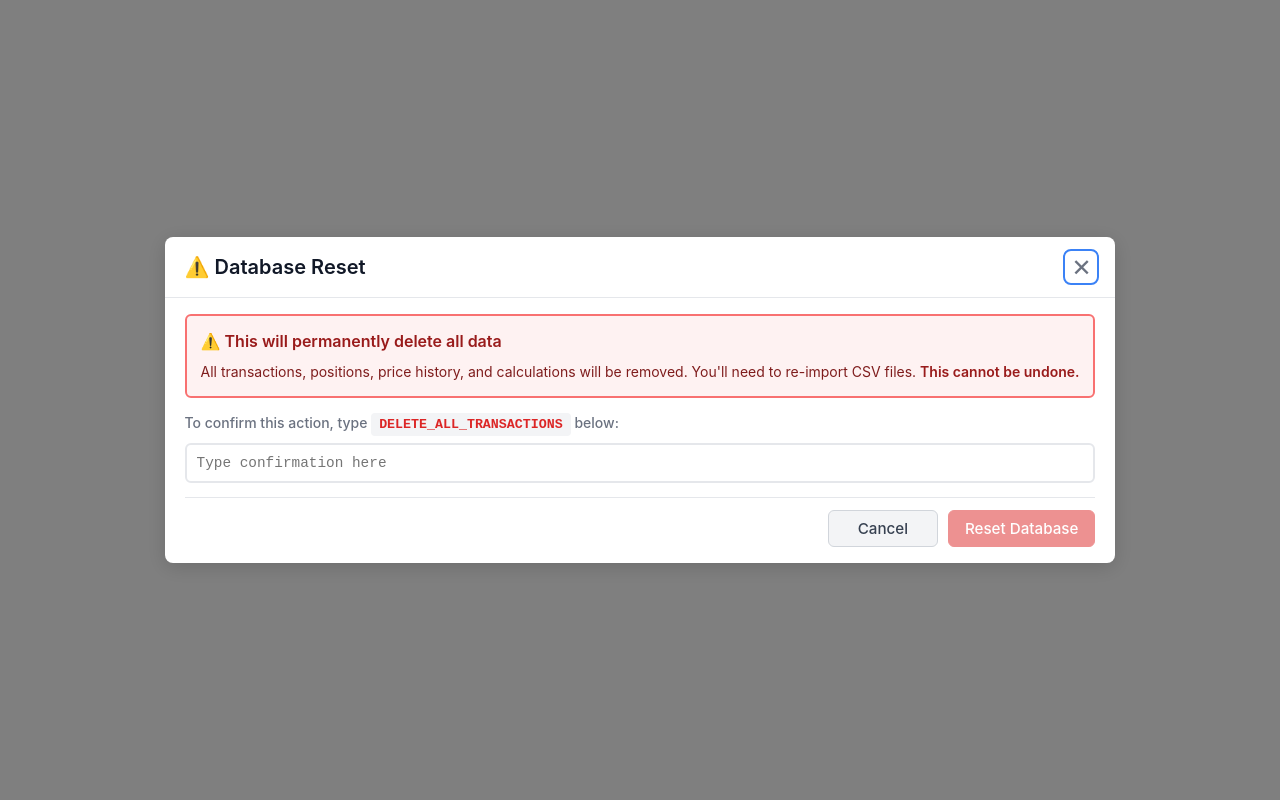
Test: DatabaseResetModal › Reset Process › handles API error gracefully
Note: Type correct confirmation
In the field with placeholder "Type confirmation here": [640, 463] box [184,443,1095,483], type "DELETE_ALL_TRANSACTIONS"
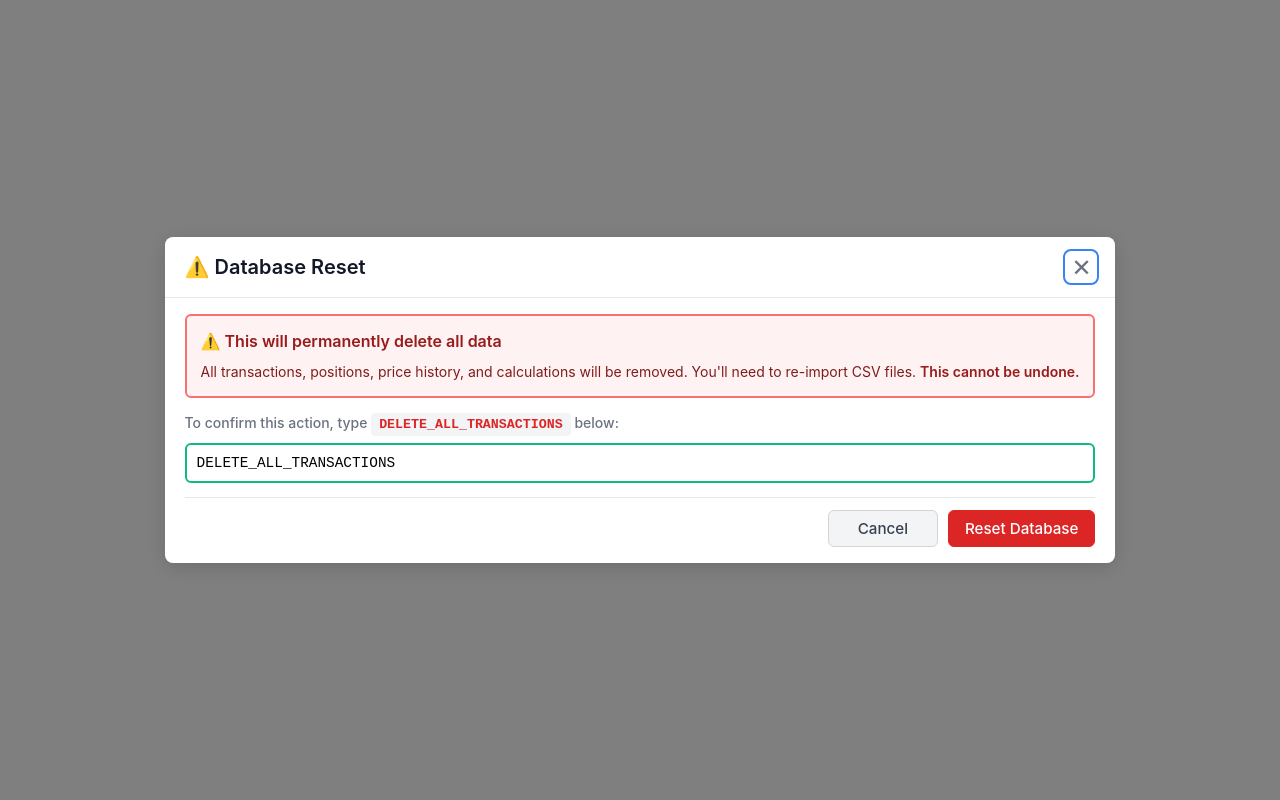
Note: Click reset
Click the button "Reset Database": [1022, 528] box [948,510,1096,547]
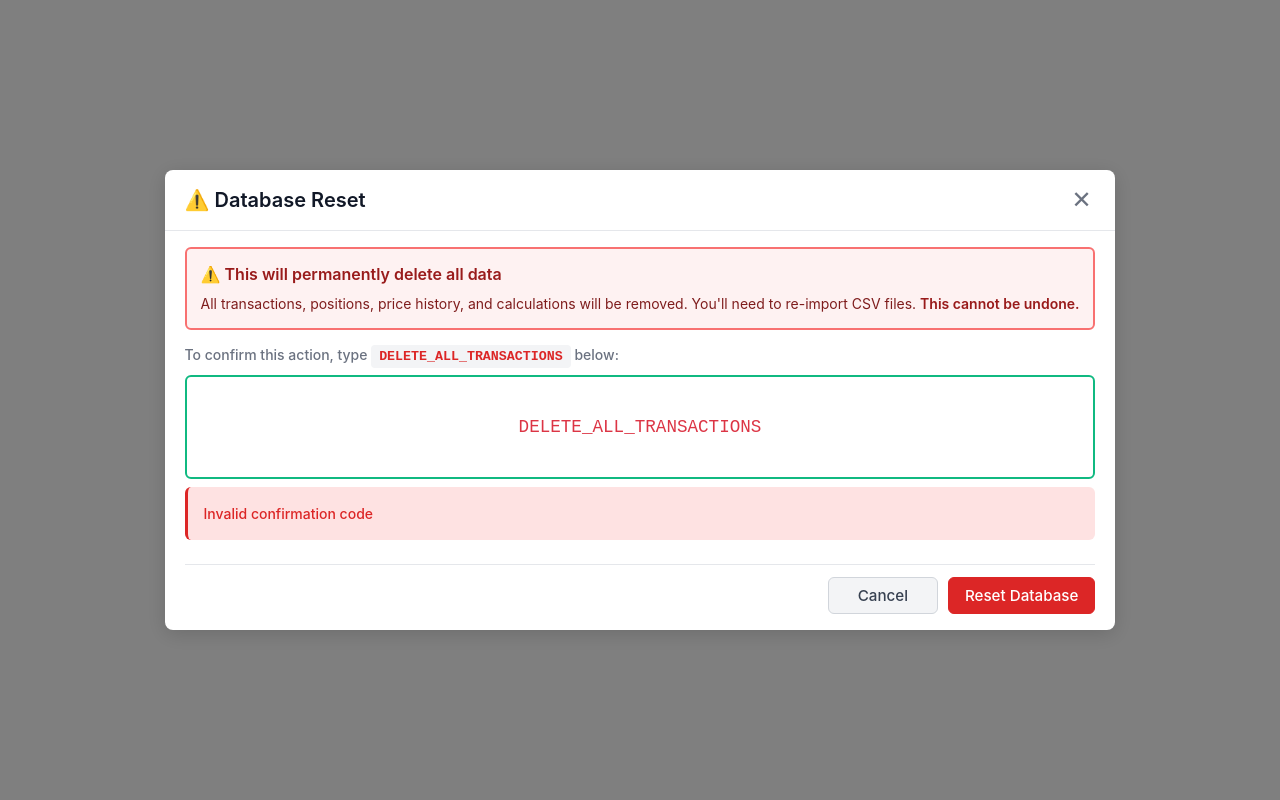
Check: the message reads "Invalid confirmation code", box [204,505,373,522]
